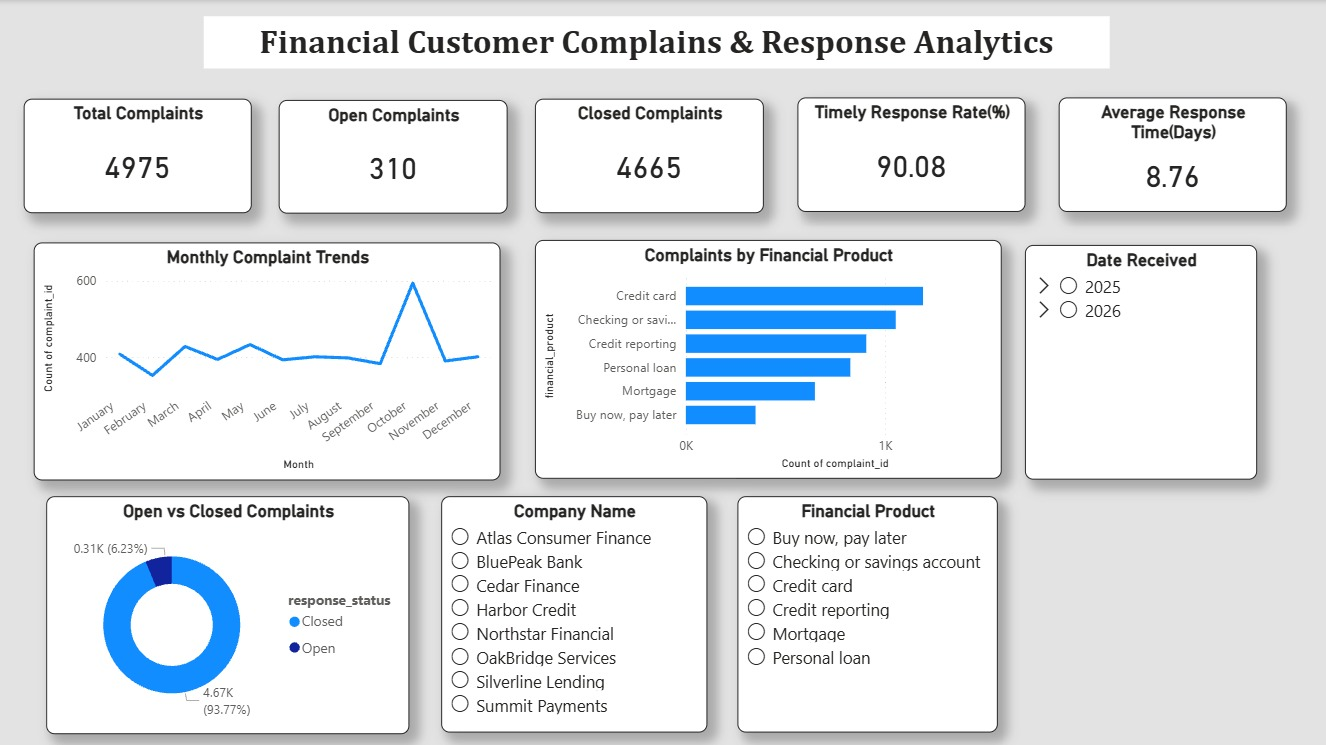

The dashboard page shown, as its layout file describes it:
{"tool":"powerbi","page":{"name":"Complaint Overview","canvas":[1280,720],"ordinal":0},"visuals":[{"type":"card","title":"Total Complaints","fields":{"Values":["Count(Cleaned Data.complaint_id)"]},"box":[22.8,95.5,220,110],"z":0},{"type":"card","title":"Open Complaints","fields":{"Values":["CountNonNull(Cleaned Data.complaint_id)"]},"box":[269,96.1,220.9,109.8],"z":1000},{"type":"card","title":"Closed Complaints","fields":{"Values":["CountNonNull(Cleaned Data.complaint_id)"]},"box":[516,95.5,220.9,110],"z":2000},{"type":"card","title":"Timely Response Rate(%)","fields":{"Values":["Cleaned Data.Timely Response Rate"]},"box":[769.7,94.1,220,110],"z":3000},{"type":"card","title":"Average Response Time(Days)","fields":{"Values":["Cleaned Data.Average Response Time"]},"box":[1022,94.1,220,110],"z":4000},{"type":"lineChart","title":"Monthly Complaint Trends","fields":{"Y":["CountNonNull(Cleaned Data.complaint_id)"],"Category":["Cleaned Data.date_received.Variation.Date Hierarchy.Year","Cleaned Data.date_received.Variation.Date Hierarchy.Month"]},"box":[32.8,233.8,450.4,229.5],"z":5000},{"type":"clusteredBarChart","title":"Complaints by Financial Product","fields":{"Category":["Cleaned Data.financial_product"],"Y":["CountNonNull(Cleaned Data.complaint_id)"]},"box":[516,231.9,450.1,230.5],"z":6000},{"type":"donutChart","title":"Open vs Closed Complaints","fields":{"Category":["Cleaned Data.response_status"],"Y":["CountNonNull(Cleaned Data.complaint_id)"]},"box":[44.2,478.9,350.6,229.5],"z":7000},{"type":"listSlicer","title":"Date Received","fields":{"Values":["Cleaned Data.date_received.Variation.Date Hierarchy.Year","Cleaned Data.date_received.Variation.Date Hierarchy.Quarter","Cleaned Data.date_received.Variation.Date Hierarchy.Month","Cleaned Data.date_received.Variation.Date Hierarchy.Day"]},"box":[989.4,236,223.7,226.4],"z":8000},{"type":"listSlicer","title":"Company Name","fields":{"Values":["Cleaned Data.company_name"]},"box":[426.2,478.9,256.6,228.1],"z":9000},{"type":"listSlicer","title":"Financial Product","fields":{"Values":["Cleaned Data.financial_product"]},"box":[711.3,478.9,250.9,228.1],"z":10000},{"type":"textbox","box":[196.2,15.1,874.1,50.8],"z":11000}]}

Visuals, with their boxes in screenshot pixels (x1, y1, x2, y2), scaled from the page's 1280x720 canvas onto the 1326x745 screenshot:
"Total Complaints" card: bbox=[24, 99, 252, 213]
"Open Complaints" card: bbox=[279, 99, 508, 213]
"Closed Complaints" card: bbox=[535, 99, 763, 213]
"Timely Response Rate(%)" card: bbox=[797, 97, 1025, 211]
"Average Response Time(Days)" card: bbox=[1059, 97, 1287, 211]
"Monthly Complaint Trends" lineChart: bbox=[34, 242, 501, 479]
"Complaints by Financial Product" clusteredBarChart: bbox=[535, 240, 1001, 478]
"Open vs Closed Complaints" donutChart: bbox=[46, 496, 409, 733]
"Date Received" listSlicer: bbox=[1025, 244, 1257, 478]
"Company Name" listSlicer: bbox=[442, 496, 707, 732]
"Financial Product" listSlicer: bbox=[737, 496, 997, 732]
textbox: bbox=[203, 16, 1109, 68]
